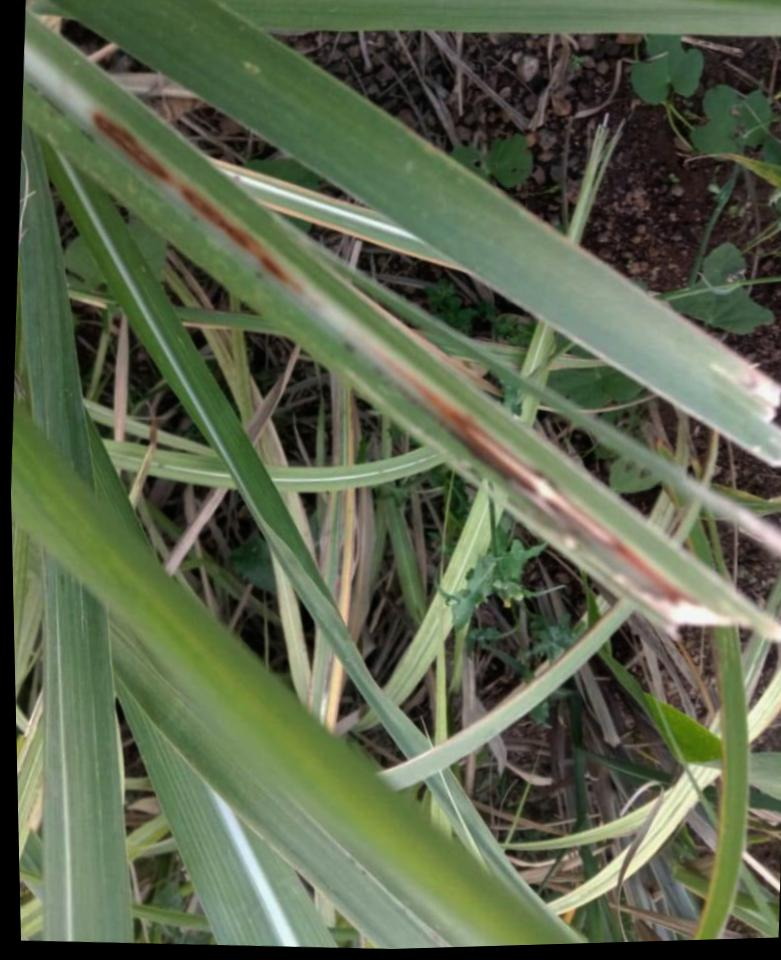RedRot: (367, 347, 692, 606), (90, 110, 326, 309)
